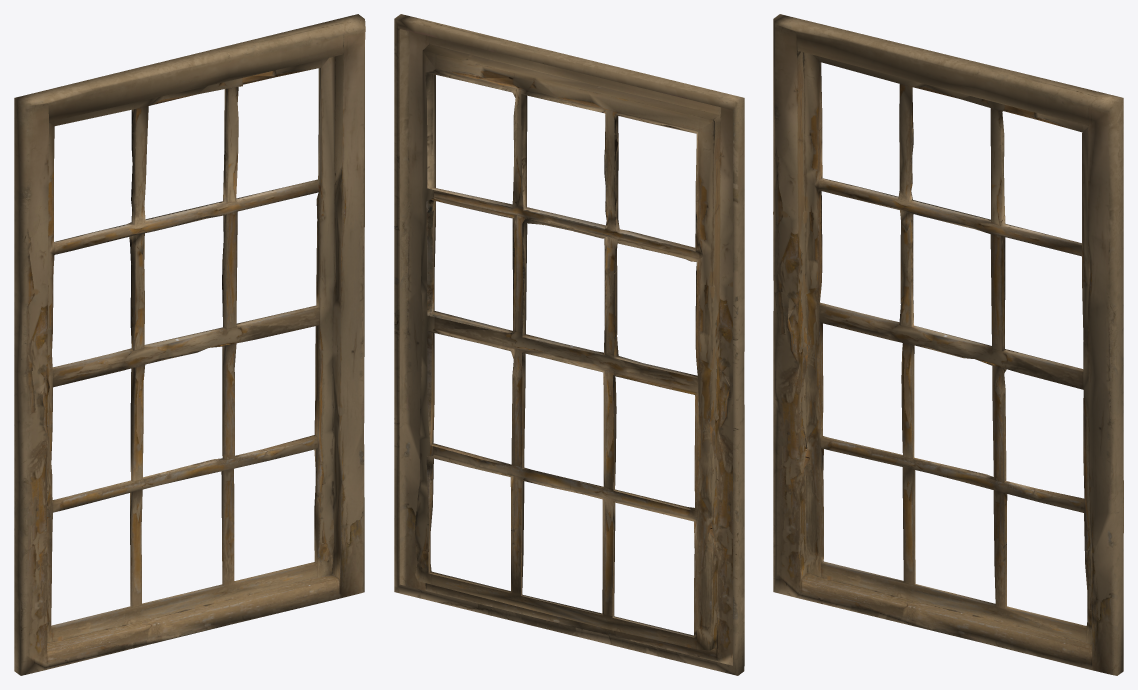
Rendered from old_wooden_window_vmfwcabdw_low.glb.
3 views of the same model, side by side, from view 1: azimuth 30°, elevation 25°; view 2: azimuth 150°, elevation 25°; view 3: azimuth 330°, elevation 25° (orthographic).
Visible parts, largest first — view 1: vmfwcabdw_LOD0_TIER3_000; view 2: vmfwcabdw_LOD0_TIER3_000; view 3: vmfwcabdw_LOD0_TIER3_000.
Boxes of the visible parts, x1=… form: vmfwcabdw_LOD0_TIER3_000: x1=14, y1=14, x2=365, y2=675; vmfwcabdw_LOD0_TIER3_000: x1=394, y1=14, x2=744, y2=675; vmfwcabdw_LOD0_TIER3_000: x1=773, y1=14, x2=1123, y2=675.
Bounding box in the file's own units: 1.28 × 2.03 × 0.1015.
Materials: 1 (1 with a texture image).
